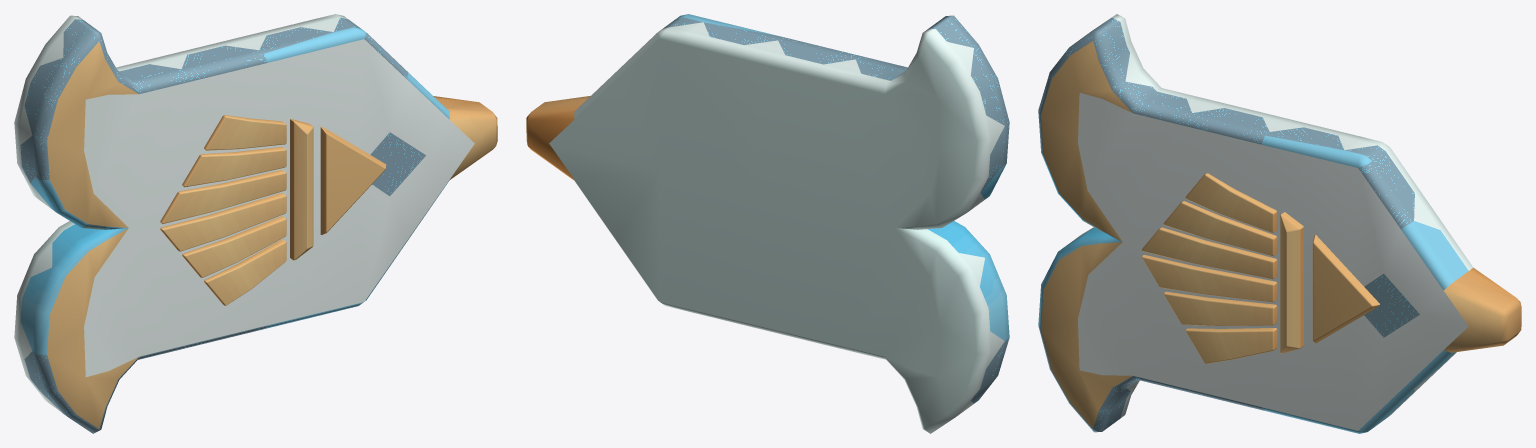
Rendered from CharSkyKid_Prop_AP12Kalimba_01.glb.
3 renders of one model, left to right at view 1: azimuth 30°, elevation 25°; view 2: azimuth 150°, elevation 25°; view 3: azimuth 330°, elevation 25°, orthographic.
Parts seen in each view (by area): view 1: CharSkyKid_Prop_AP12Kalimba_01; view 2: CharSkyKid_Prop_AP12Kalimba_01; view 3: CharSkyKid_Prop_AP12Kalimba_01.
Boxes of the visible parts, bbox=[...] form: CharSkyKid_Prop_AP12Kalimba_01: bbox=[14, 14, 497, 433]; CharSkyKid_Prop_AP12Kalimba_01: bbox=[526, 14, 1009, 433]; CharSkyKid_Prop_AP12Kalimba_01: bbox=[1038, 14, 1521, 433].
Bounding box in the file's own units: 3.85 × 3.18 × 0.5412.
1 material, 1 textured.
